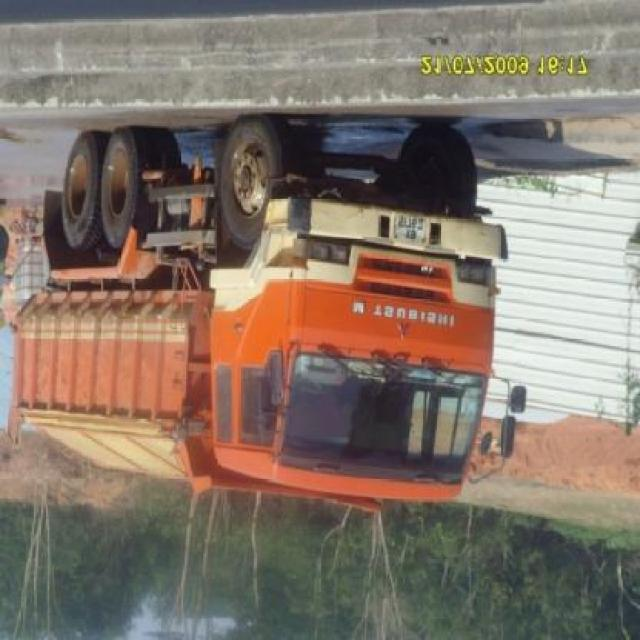truck: (8, 115, 516, 515)
